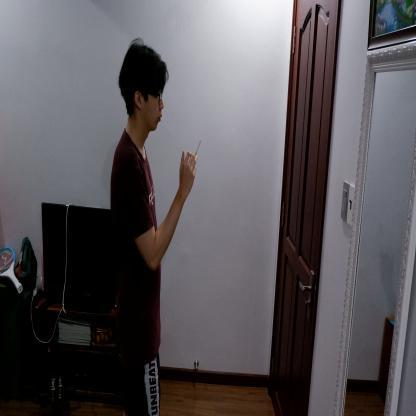cigarette: (193, 139, 202, 161)
person: (107, 39, 196, 415)
